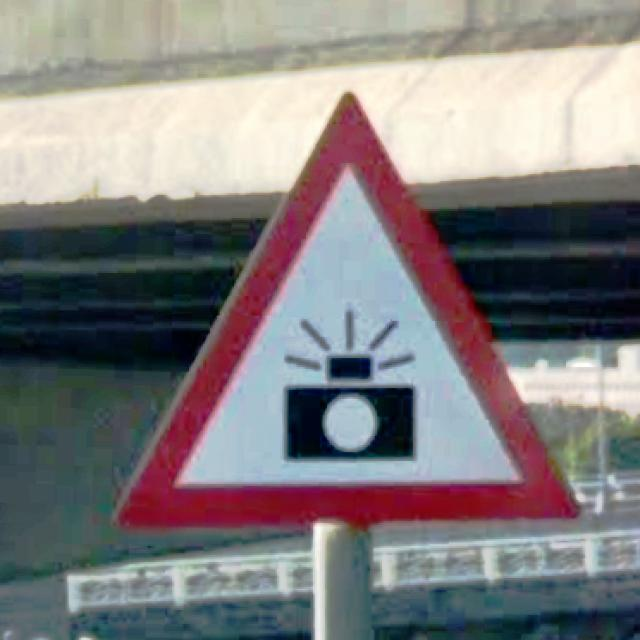speedcamera: (110, 86, 583, 534)
